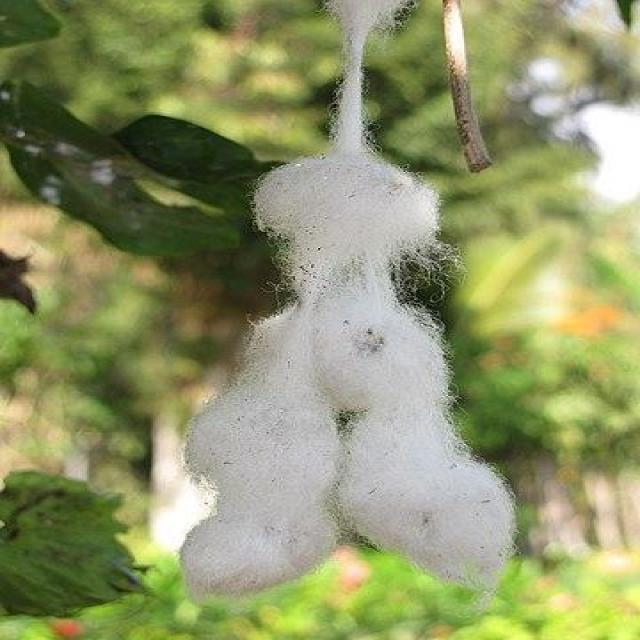Late_blight: (178, 143, 516, 594)
